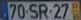0: (16, 2, 25, 19)
2: (52, 2, 61, 18)
7: (60, 3, 68, 19), (8, 3, 16, 19)
R: (37, 3, 48, 19)
S: (27, 2, 38, 19)
